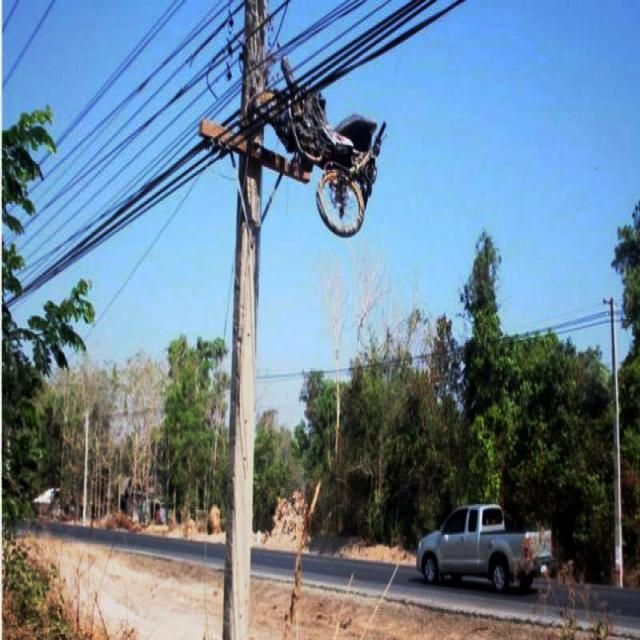obstruction: (199, 56, 384, 235)
poles: (223, 155, 262, 639), (241, 0, 267, 112)
wires: (22, 80, 241, 294), (271, 0, 463, 87)
